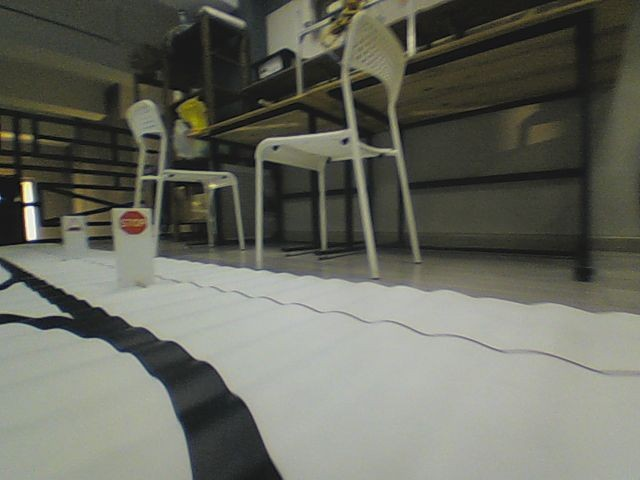Stop: (118, 209, 147, 236)
